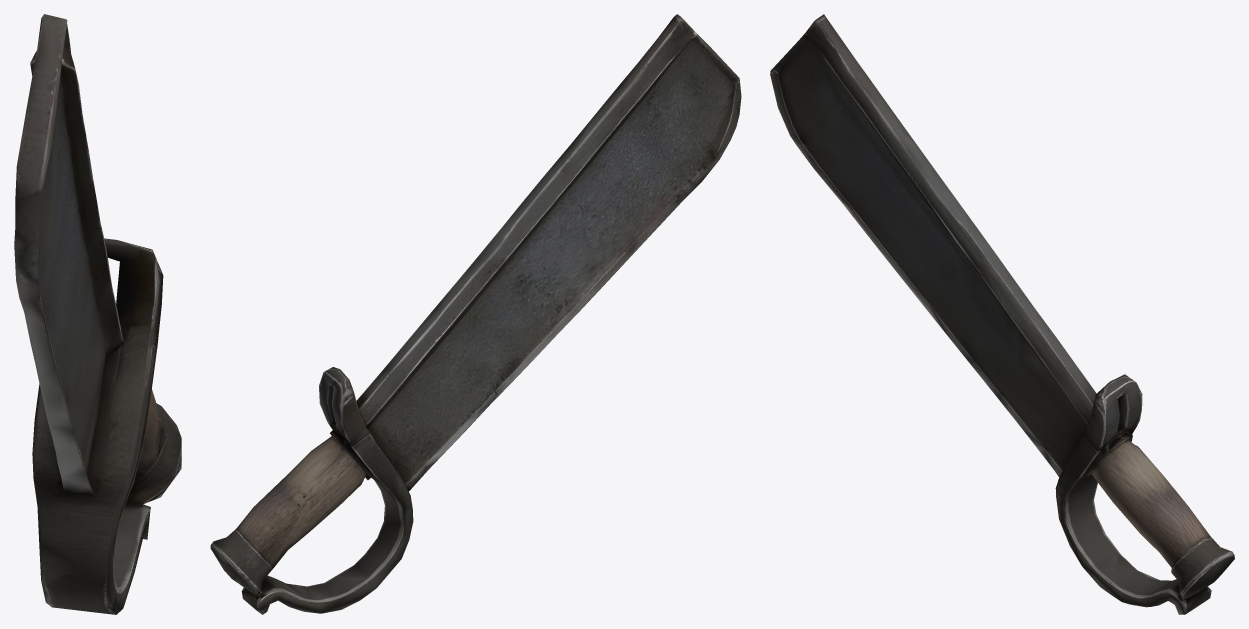
The model's file is cavalry_atk_melee.glb.
3 renders of one model, left to right at view 1: azimuth 30°, elevation 25°; view 2: azimuth 150°, elevation 25°; view 3: azimuth 270°, elevation 25°, orthographic. The views are drawn at different scales.
Visible parts, largest first — view 1: tripo_node_f7fd43a3-a171-47d6-a9d2-b9a471f26ce8; view 2: tripo_node_f7fd43a3-a171-47d6-a9d2-b9a471f26ce8; view 3: tripo_node_f7fd43a3-a171-47d6-a9d2-b9a471f26ce8.
Boxes of the visible parts, x1,y1,x2,y2 form: tripo_node_f7fd43a3-a171-47d6-a9d2-b9a471f26ce8: (14,14,181,614); tripo_node_f7fd43a3-a171-47d6-a9d2-b9a471f26ce8: (210,14,741,614); tripo_node_f7fd43a3-a171-47d6-a9d2-b9a471f26ce8: (770,14,1234,614).
Size of the model in its own units: 0.3295 by 0.5181 by 0.4415.
Materials: 1 (1 with a texture image).
